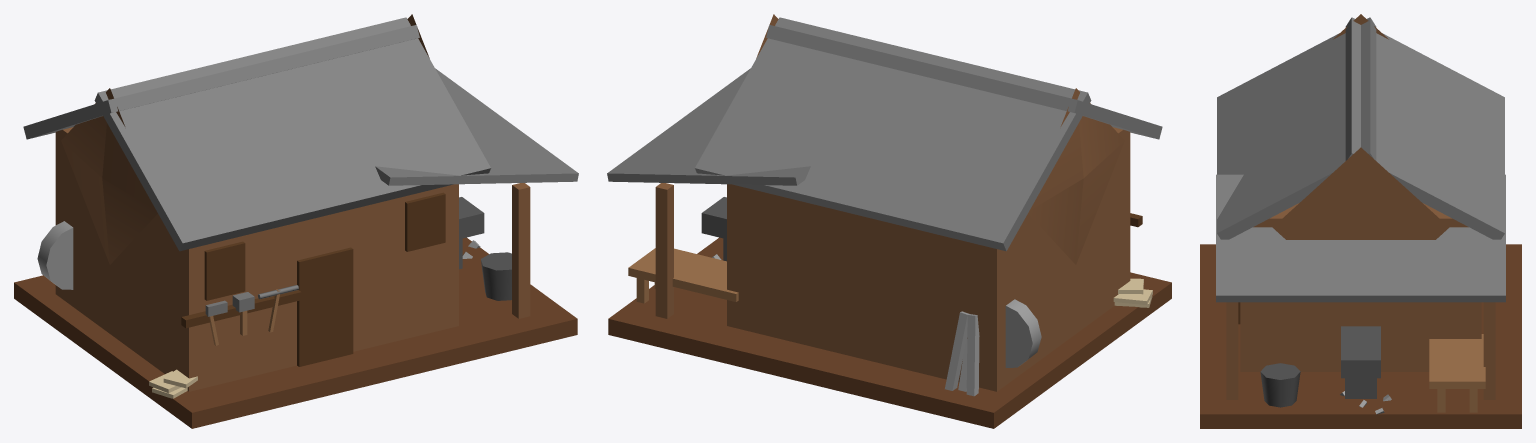
File: toolmaker_workshop.glb
3 renders of one model, left to right at view 1: azimuth 30°, elevation 25°; view 2: azimuth 150°, elevation 25°; view 3: azimuth 270°, elevation 25°, orthographic. The views are drawn at different scales.
Visible parts, largest first — view 1: RoofFront, WorkshopMainBody, Foundation, RoofCapLeft, AwningRoof, MainDoor, RoofBack, AwningPostFront, WindowLeft, WindowRight, GrindstoneWheel, WaterBucket (+2 smaller); view 2: WorkshopMainBody, RoofBack, Foundation, RoofCapLeft, AwningRoof, RoofFront, WorkbenchTop, AwningPostBack, GrindstoneWheel, IronBar2, IronBar1, AnvilTop; view 3: AwningRoof, RoofFront, RoofBack, Foundation, WorkshopMainBody, RoofCapRight, WorkbenchTop, AnvilTop, WaterBucket, AwningPostFront, AwningPostBack, AnvilBase.
Boxes of the visible parts, x1=… form: RoofFront: x1=94, y1=17, x2=490, y2=251; WorkshopMainBody: x1=55, y1=127, x2=458, y2=391; Foundation: x1=14, y1=237, x2=577, y2=428; RoofCapLeft: x1=61, y1=88, x2=157, y2=264; AwningRoof: x1=375, y1=68, x2=578, y2=185; MainDoor: x1=297, y1=247, x2=353, y2=366; RoofBack: x1=23, y1=25, x2=419, y2=139; AwningPostFront: x1=512, y1=183, x2=530, y2=318; WindowLeft: x1=204, y1=241, x2=245, y2=300; WindowRight: x1=405, y1=192, x2=445, y2=251; GrindstoneWheel: x1=37, y1=221, x2=73, y2=289; WaterBucket: x1=481, y1=252, x2=511, y2=300; WorkshopMainBody: x1=727, y1=127, x2=1130, y2=391; RoofBack: x1=695, y1=17, x2=1091, y2=251; Foundation: x1=608, y1=237, x2=1171, y2=428; RoofCapLeft: x1=1028, y1=88, x2=1124, y2=264; AwningRoof: x1=607, y1=68, x2=810, y2=185; RoofFront: x1=766, y1=25, x2=1162, y2=139; WorkbenchTop: x1=628, y1=248, x2=738, y2=301; AwningPostBack: x1=655, y1=183, x2=673, y2=318; GrindstoneWheel: x1=1005, y1=299, x2=1041, y2=367; IronBar2: x1=966, y1=314, x2=979, y2=396; IronBar1: x1=945, y1=311, x2=969, y2=390; AnvilTop: x1=701, y1=197, x2=726, y2=239; AwningRoof: x1=1216, y1=174, x2=1505, y2=302; RoofFront: x1=1217, y1=17, x2=1376, y2=239; RoofBack: x1=1345, y1=17, x2=1504, y2=239; Foundation: x1=1200, y1=244, x2=1521, y2=428; WorkshopMainBody: x1=1240, y1=203, x2=1481, y2=371; RoofCapRight: x1=1272, y1=147, x2=1449, y2=307; WorkbenchTop: x1=1429, y1=334, x2=1485, y2=388; AnvilTop: x1=1341, y1=326, x2=1380, y2=378; WaterBucket: x1=1260, y1=363, x2=1300, y2=407; AwningPostFront: x1=1226, y1=302, x2=1238, y2=399; AwningPostBack: x1=1483, y1=302, x2=1495, y2=399; AnvilBase: x1=1345, y1=378, x2=1376, y2=398.
Size of the model in its own units: 5.25 by 3.4 by 4.
